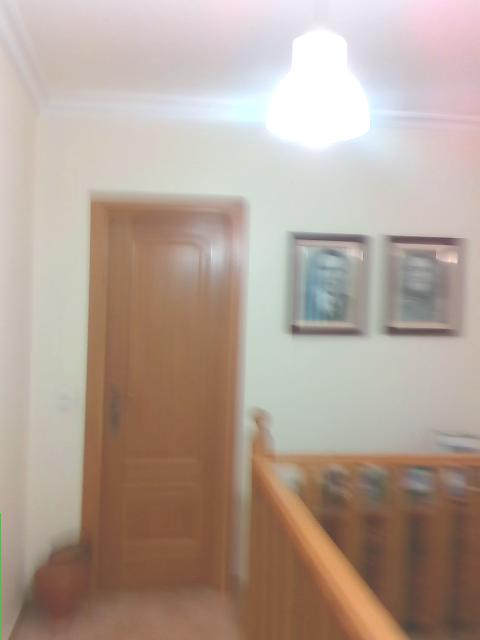closed_door: (84, 193, 248, 602)
